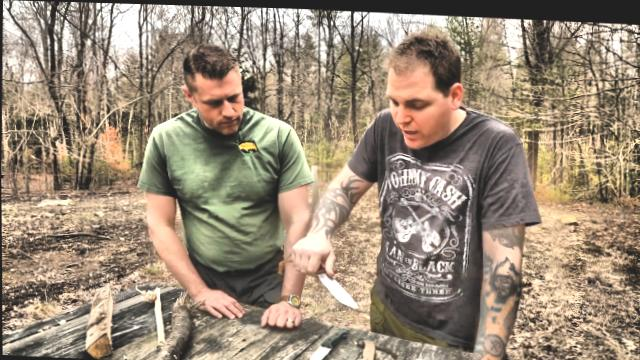knife: (289, 240, 367, 315)
